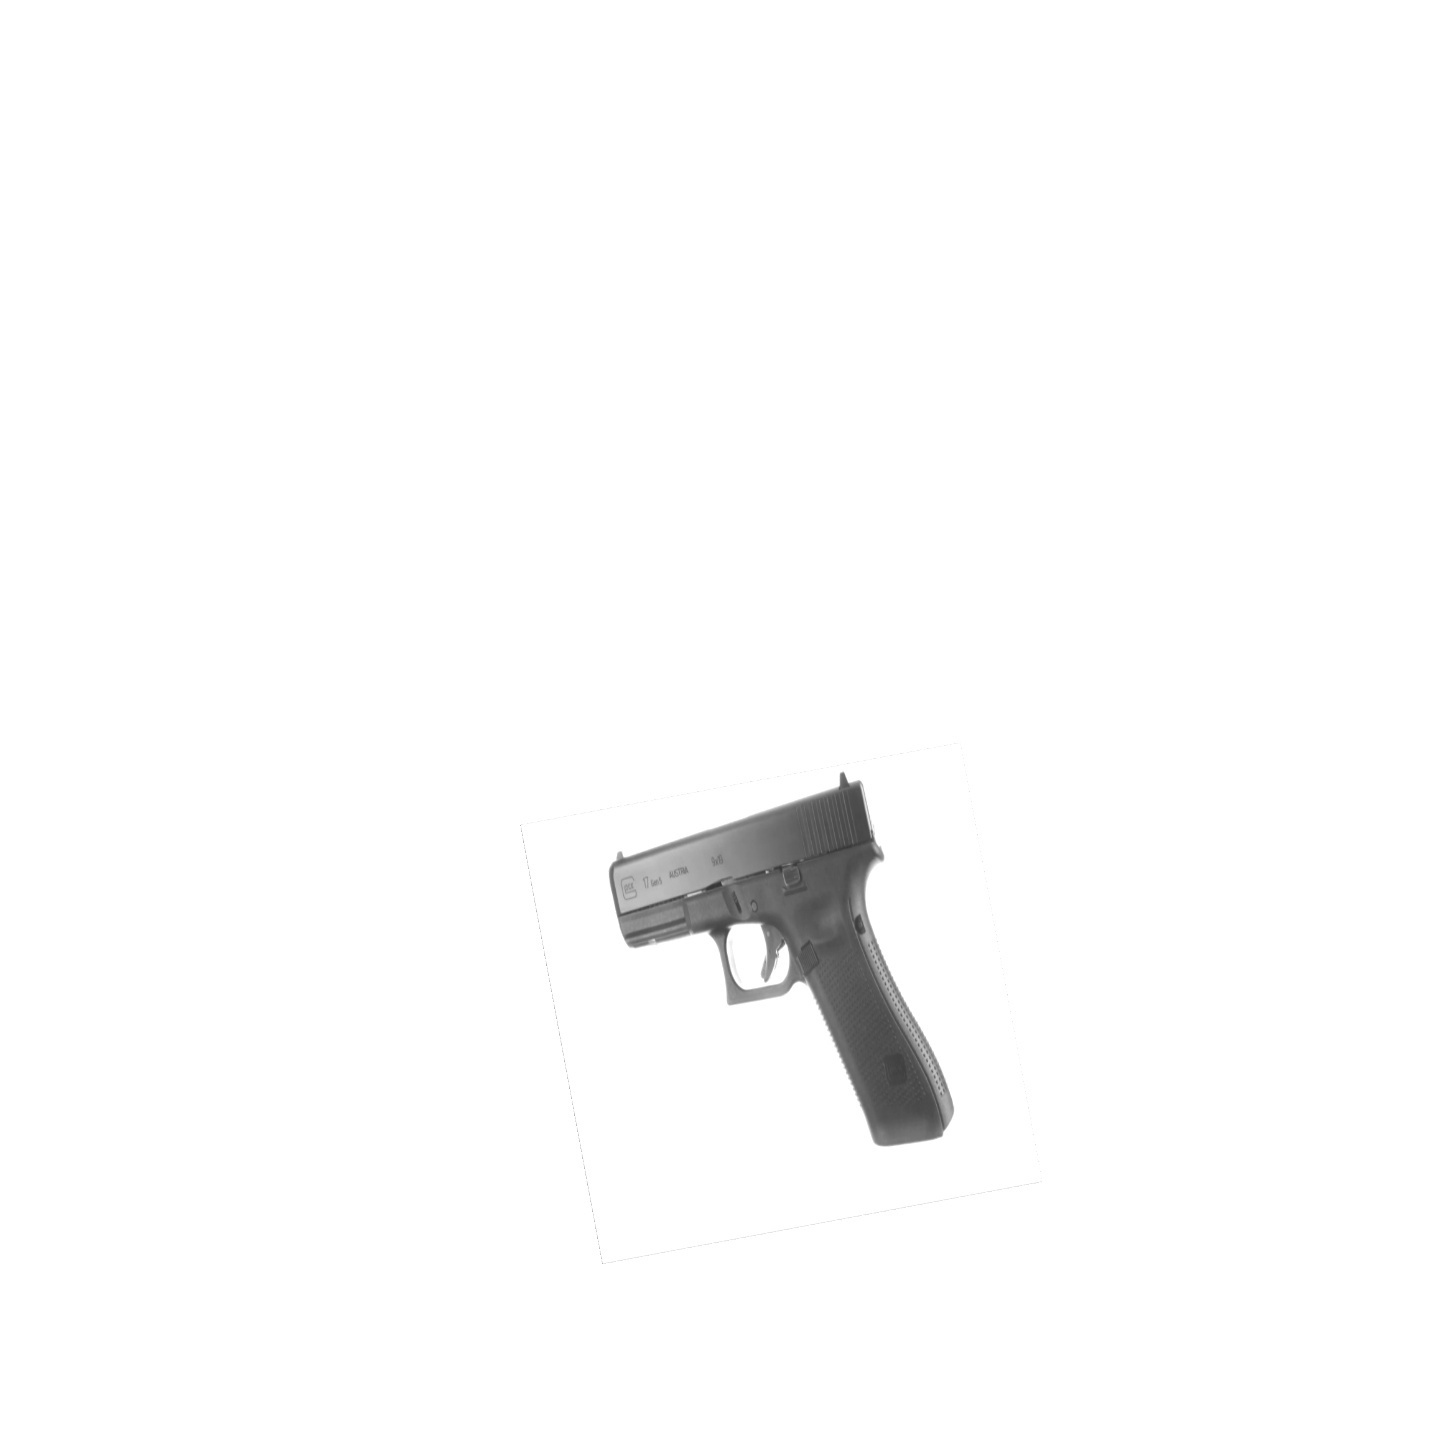gun: (604, 766, 974, 1160)
